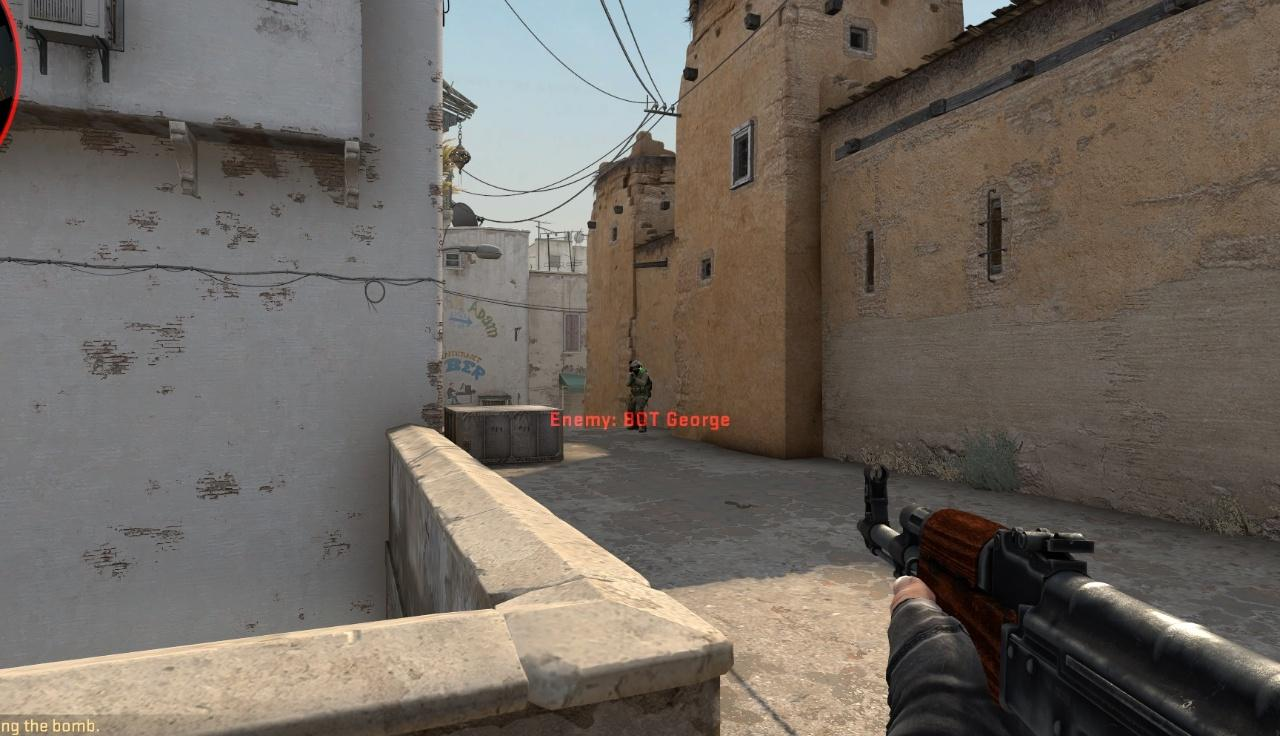ct: (627, 360, 652, 432)
cthead: (631, 361, 642, 374)
rifle: (856, 463, 1280, 736)
